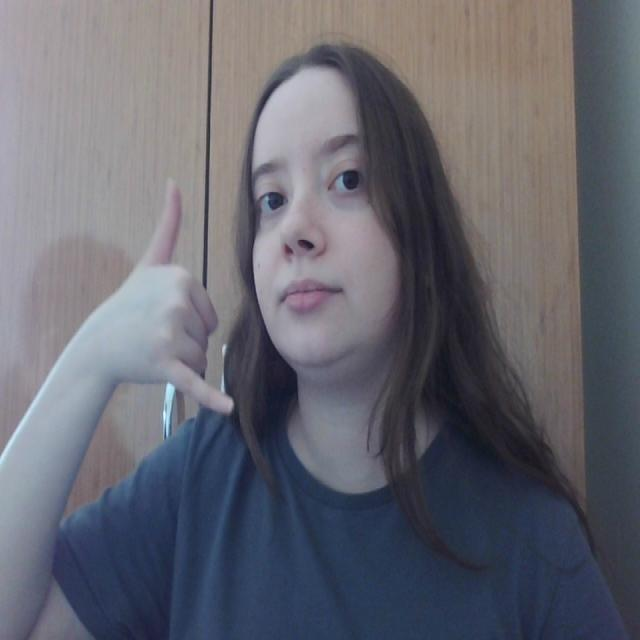Telefon: (110, 174, 242, 424)
